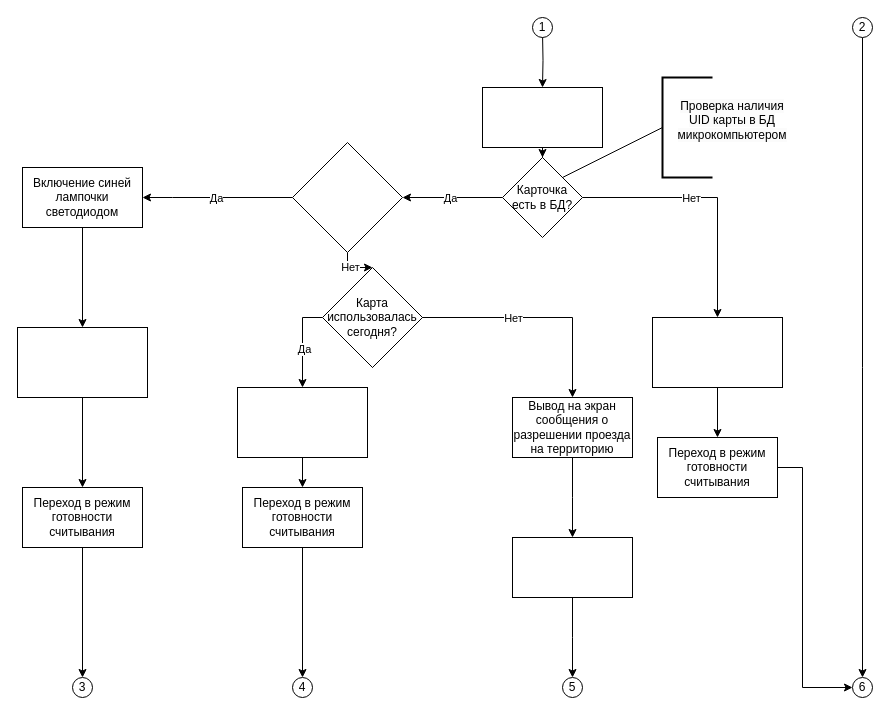
Some shapes in this 890 by 715 pixel diagram are drawn without their labels. The shapes that lost their labels are listed below. From the top down, each one's centre as x and y in pixels, then its label:
the point at 542,117: Считывание UID карты,поднесённой к считывателю
the point at 347,197: Срок использования истёк?
the point at 82,362: Вывод на экран сообщения о истечении срока использования карты
the point at 717,352: Вывод на экран сообщения о недопуске на закрытую территорию
the point at 302,422: Вывод на экран сообщения о запрете повторного использования карты
the point at 572,567: Включение зелёной лампочки светодиодом
